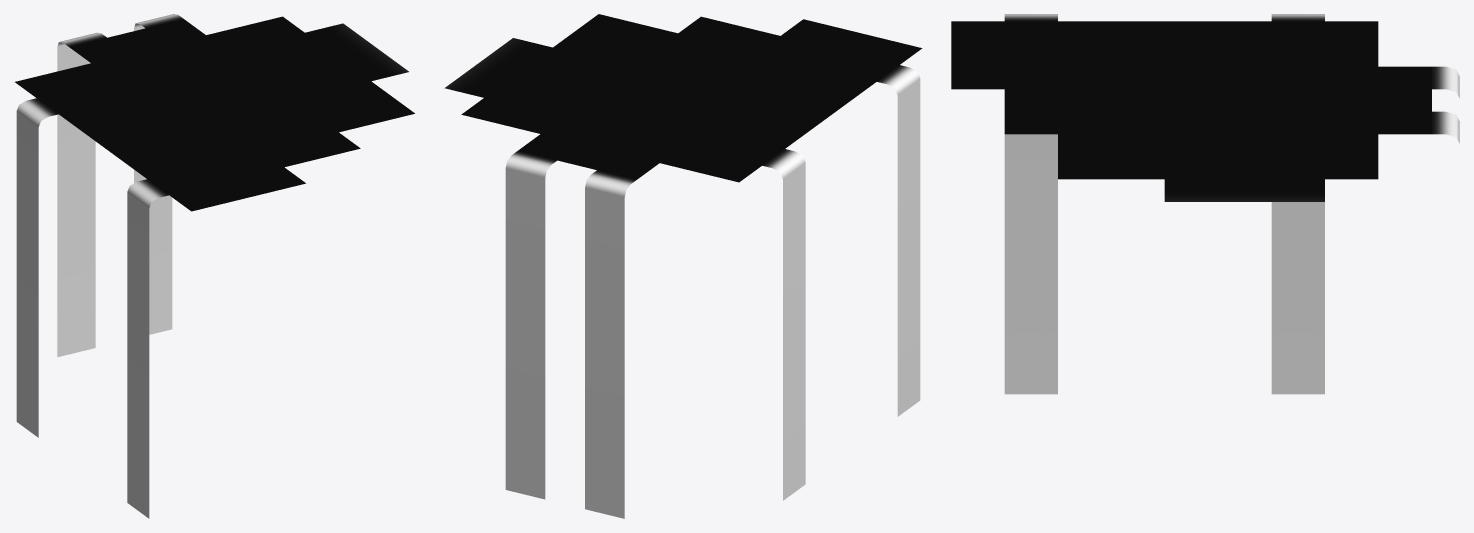
The model's file is ghostRoom3_MESH.fbx.
The picture shows the model from 3 angles, left to right: view 1: azimuth 30°, elevation 25°; view 2: azimuth 150°, elevation 25°; view 3: azimuth 270°, elevation 25°; orthographic projection. The views are drawn at different scales.
Parts seen in each view (by area): view 1: ghostRoom3; view 2: ghostRoom3; view 3: ghostRoom3.
Boxes of the visible parts, left/top/right/bottom form: ghostRoom3: left=15, top=14, right=414, bottom=518; ghostRoom3: left=444, top=14, right=922, bottom=518; ghostRoom3: left=951, top=14, right=1459, bottom=394.
Size of the model in its own units: 8.52 by 7.95 by 9.52.
Materials: 1 (1 with a texture image).
